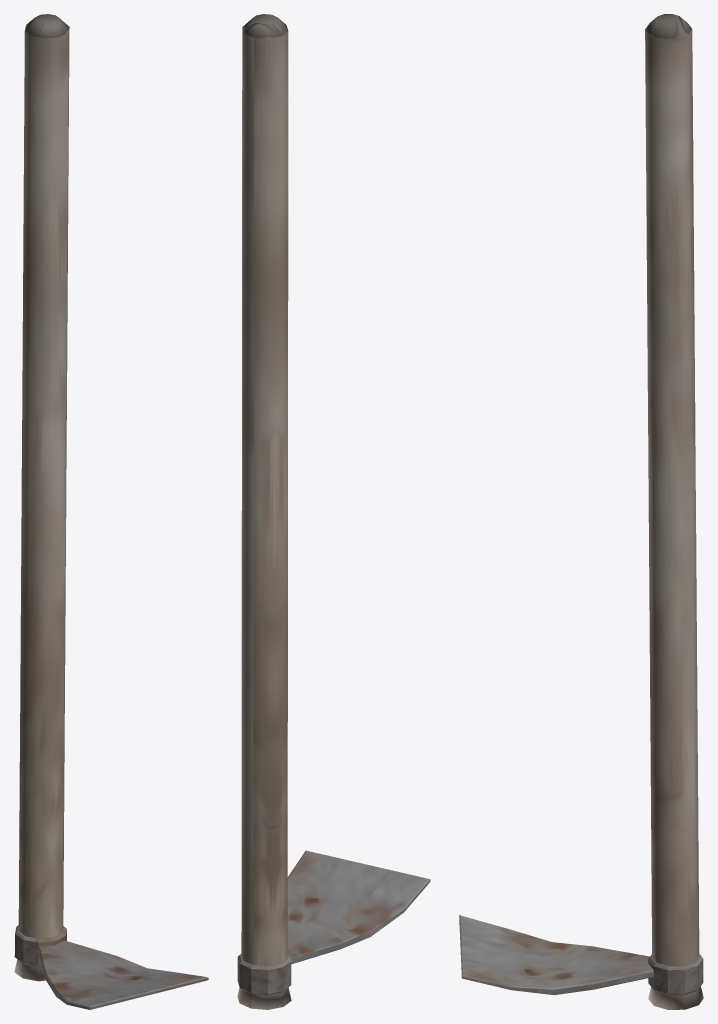
The model's file is Hoe.fbx.
The picture shows the model from 3 angles, left to right: view 1: azimuth 30°, elevation 25°; view 2: azimuth 150°, elevation 25°; view 3: azimuth 270°, elevation 25°; orthographic projection. The views are drawn at different scales.
Visible parts, largest first — view 1: Hoe; view 2: Hoe; view 3: Hoe.
Boxes of the visible parts, <box> form: Hoe: <box>14,14,208,1009</box>; Hoe: <box>237,14,430,1009</box>; Hoe: <box>459,14,703,1009</box>.
Size of the model in its own units: 15.1 by 114 by 25.78.
